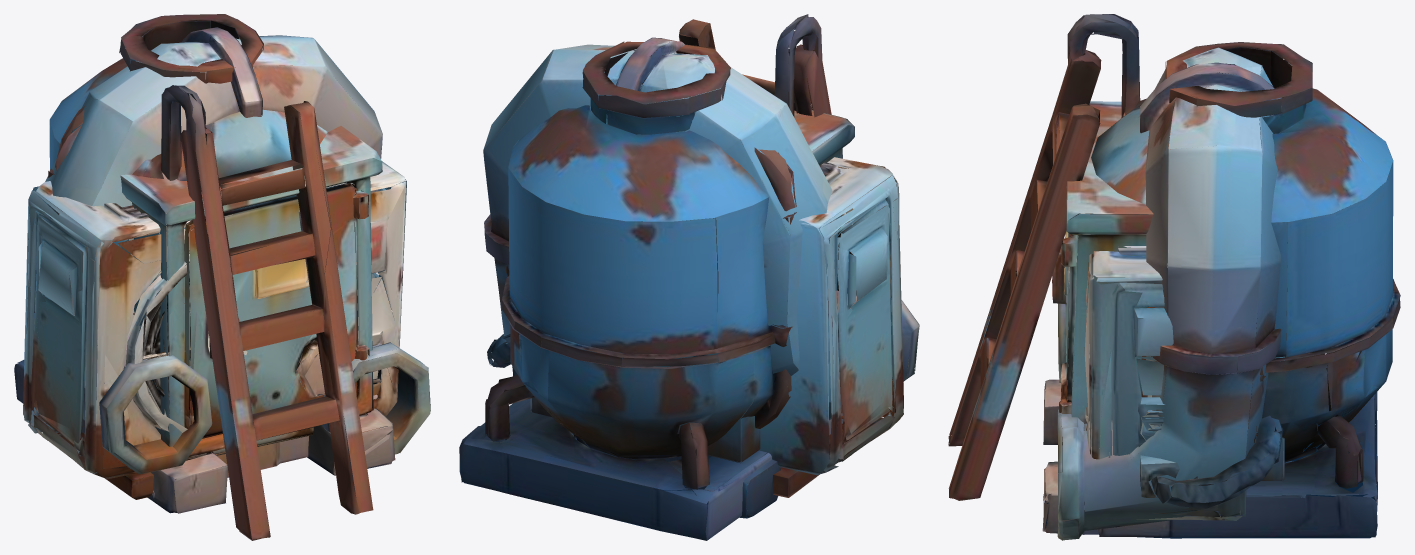
Rendered from covers.glb.
3 views of the same model, side by side, from view 1: azimuth 30°, elevation 25°; view 2: azimuth 150°, elevation 25°; view 3: azimuth 270°, elevation 25° (orthographic). The views are drawn at different scales.
Parts seen in each view (by area): view 1: tank, ac, box, pipe; view 2: tank, ac, pipe, box; view 3: tank, pipe, ac, box.
Part boxes in pixels (bbox=[...]): tank: bbox=[14, 14, 378, 540]; ac: bbox=[23, 161, 406, 499]; box: bbox=[46, 126, 395, 513]; pipe: bbox=[45, 27, 430, 474]; tank: bbox=[459, 14, 843, 540]; ac: bbox=[487, 157, 903, 497]; pipe: bbox=[483, 37, 919, 420]; box: bbox=[505, 110, 854, 518]; tank: bbox=[948, 14, 1400, 538]; pipe: bbox=[1057, 47, 1283, 540]; ac: bbox=[1068, 213, 1283, 520]; box: bbox=[1042, 101, 1301, 534].
Bounding box in the file's own units: 0.3577 × 0.3939 × 0.3799.
Materials: 1 (1 with a texture image).
